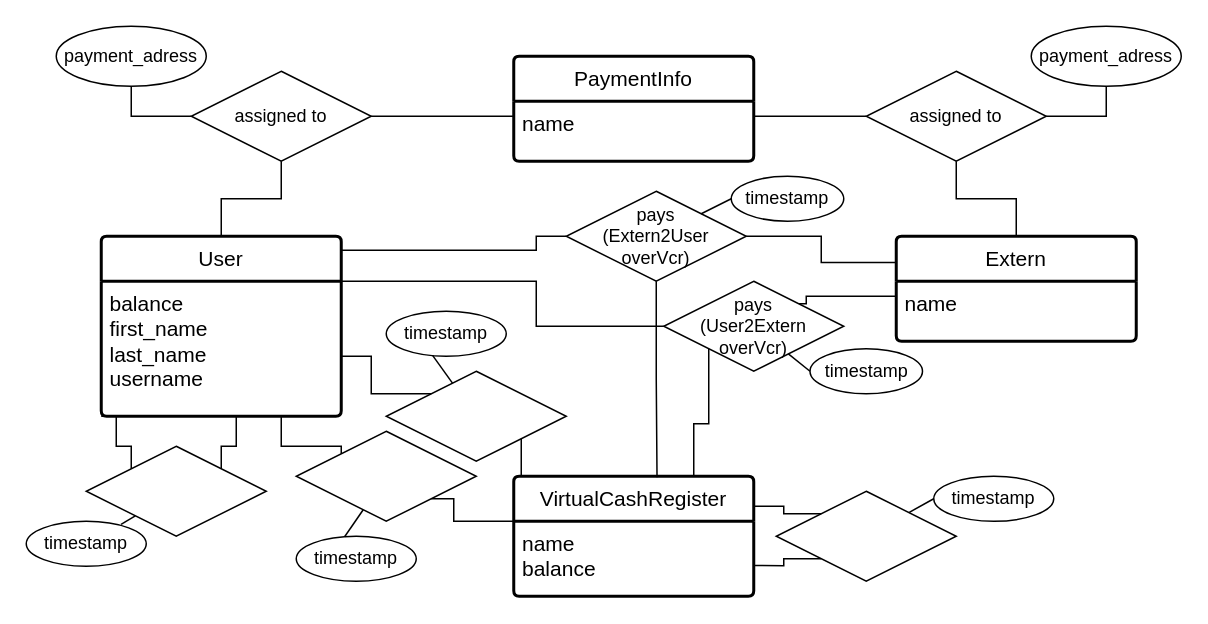
Some shapes in this 1208 by 624 pixel diagram are drawn without their labels. The shapes that lost their labels are listed below. From the top down, each one's centre as x and y in pixels, then its label:
At (x=475, y=415): "pays (User2Vcr)".
At (x=175, y=490): "pays (User2User)".
At (x=385, y=475): "pays (Vcr2User)".
At (x=865, y=535): "pays (Vcr2Vcr)".
